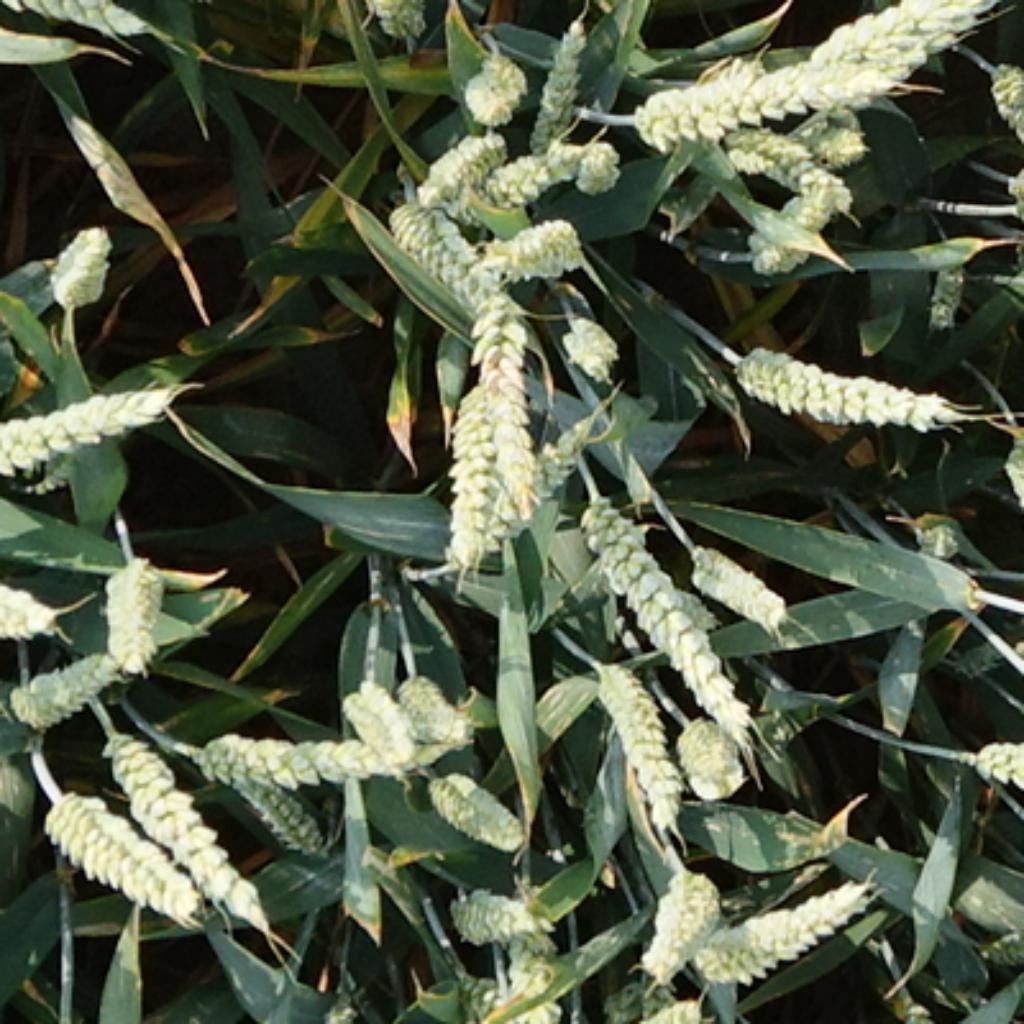0-0: (573, 486, 773, 770), (104, 734, 286, 954), (435, 389, 606, 578), (627, 58, 939, 148), (729, 337, 983, 442), (788, 0, 1024, 110), (40, 788, 217, 929), (381, 197, 527, 358), (696, 865, 875, 990), (181, 738, 347, 864), (0, 373, 179, 484), (189, 716, 417, 803), (471, 294, 552, 527), (593, 655, 680, 849), (714, 120, 860, 215), (445, 376, 512, 578), (737, 161, 852, 271), (460, 125, 627, 199), (686, 524, 791, 640), (419, 755, 535, 852), (10, 634, 130, 724), (637, 855, 721, 967), (491, 883, 557, 1024), (529, 15, 596, 153), (332, 683, 440, 768), (92, 547, 168, 665), (673, 706, 755, 811), (384, 665, 476, 757), (440, 872, 552, 947), (404, 120, 504, 204), (606, 560, 719, 634), (486, 207, 586, 276), (46, 224, 120, 313), (962, 709, 1024, 811), (455, 48, 527, 128), (977, 46, 1024, 156), (431, 976, 534, 1024), (2, 0, 145, 33), (2, 558, 64, 634), (558, 312, 622, 384), (547, 128, 619, 192), (916, 253, 972, 332), (793, 112, 867, 171), (908, 504, 973, 569), (363, 0, 435, 46)
